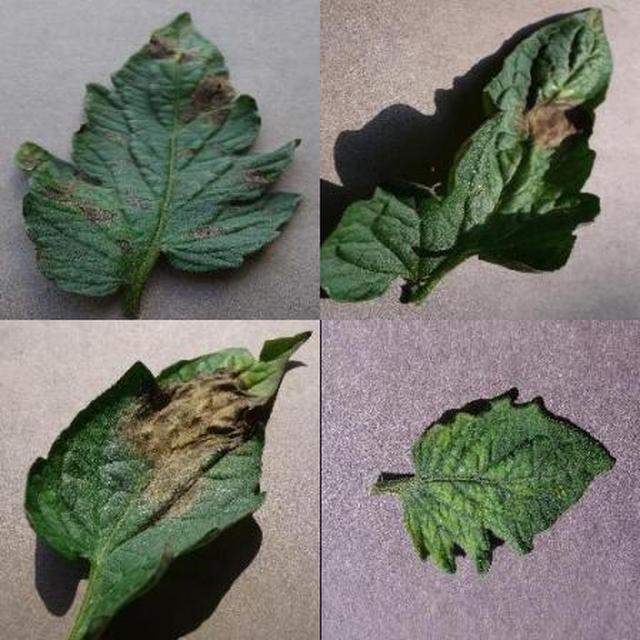Early Blight Leaf: (224, 216, 640, 640)
